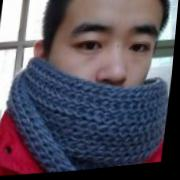WRONG: (46, 9, 162, 137)
